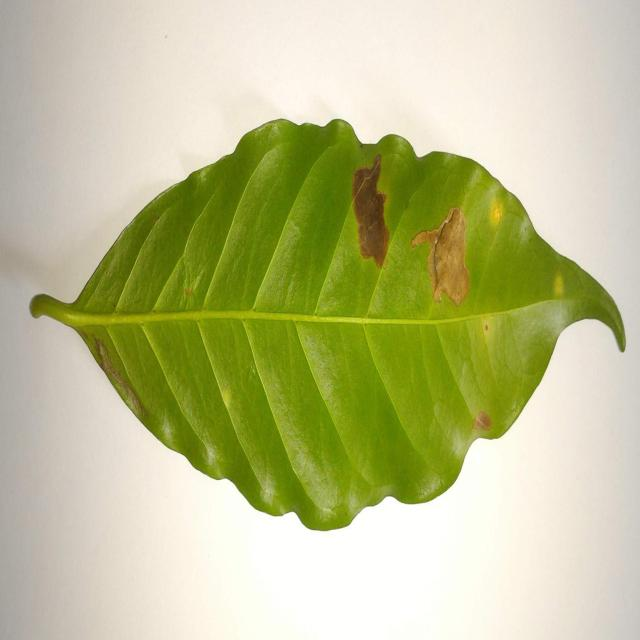miner: (352, 153, 391, 309), (411, 208, 470, 307), (473, 409, 492, 432)
rust: (488, 185, 506, 231), (552, 266, 567, 296)
